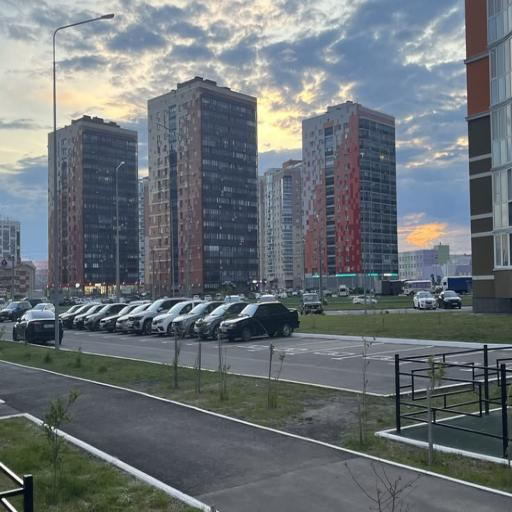bottle: (220, 302, 299, 342), (13, 309, 54, 342), (413, 292, 436, 309), (438, 291, 461, 308)
construction_fence: (6, 362, 511, 498), (58, 431, 212, 511)
ramp: (366, 341, 460, 395)
shelf: (0, 363, 374, 511)
